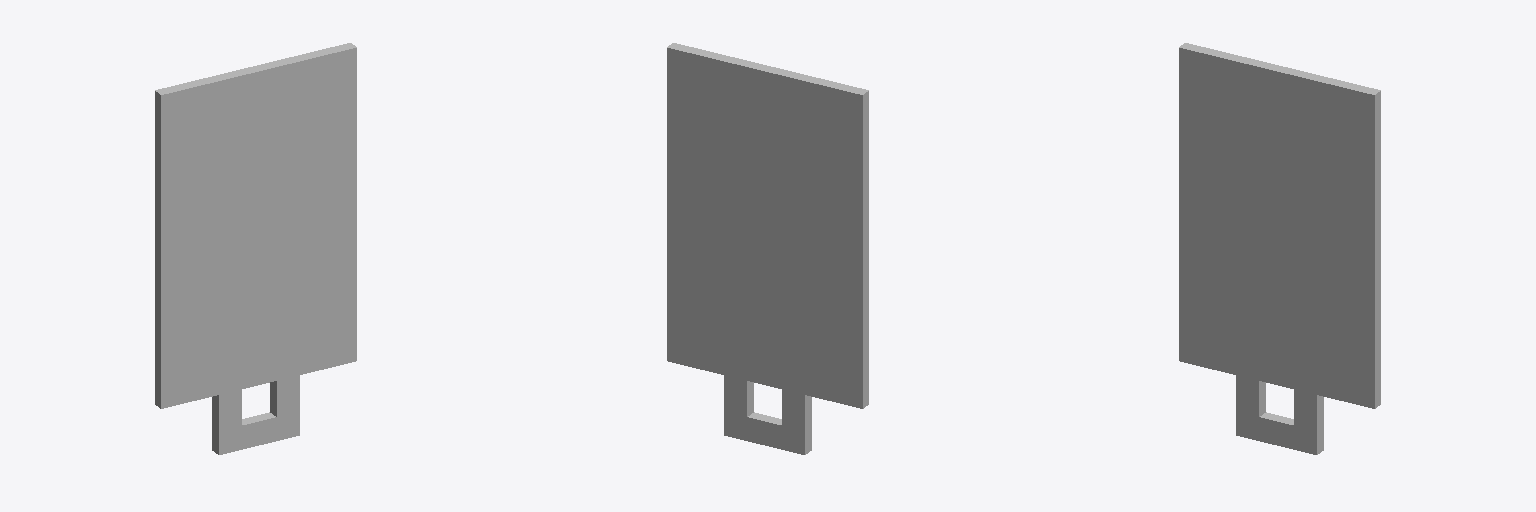
File: KitchenOPEN_Export-39.obj
3 views of the same model, side by side, from view 1: azimuth 30°, elevation 25°; view 2: azimuth 150°, elevation 25°; view 3: azimuth 330°, elevation 25° (orthographic).
Parts seen in each view (by area): view 1: KitchenOPEN_Export-39; view 2: KitchenOPEN_Export-39; view 3: KitchenOPEN_Export-39.
Part boxes in pixels (x1,y1,x2,y2): KitchenOPEN_Export-39: (155, 43, 356, 454); KitchenOPEN_Export-39: (667, 43, 868, 454); KitchenOPEN_Export-39: (1179, 43, 1380, 454).
Size of the model in its own units: 17 by 31 by 1.